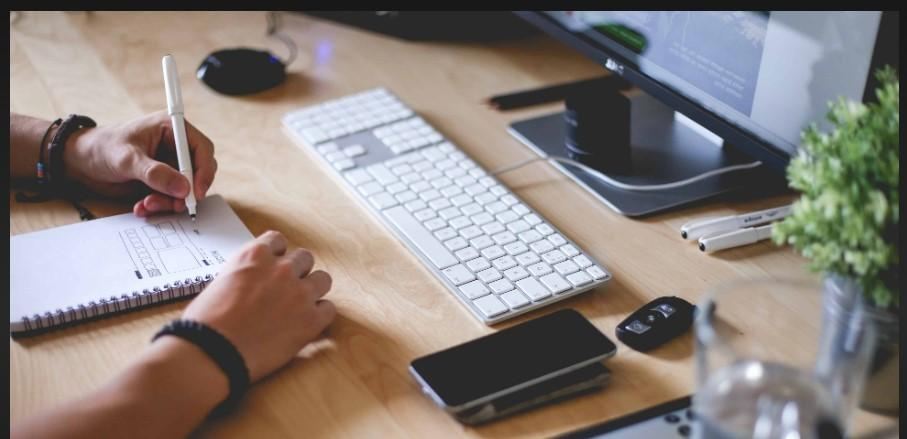Keyboard: (278, 87, 610, 328)
